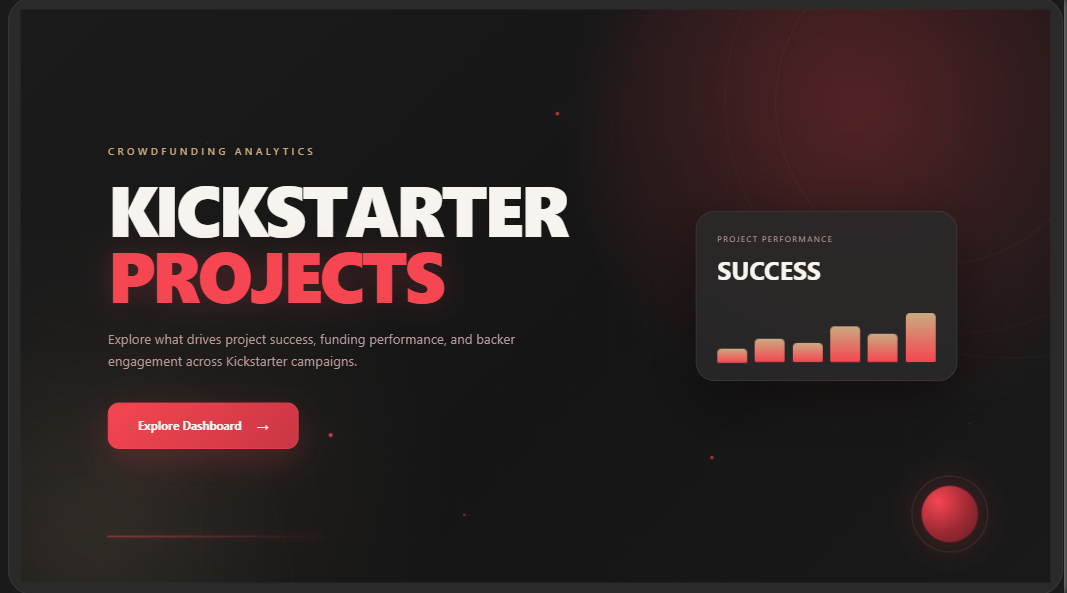

The page's visual inventory and layout, read from the dashboard file:
{"tool":"powerbi","page":{"name":"Over View","canvas":[1280,720],"ordinal":0},"visuals":[{"type":"htmlContent443BE3AD55E043BF878BED274D3A6855","fields":{"content":["Measure.Landing Page HTML"]},"box":[9.6,0,1270.4,719.8],"z":0},{"type":"actionButton","box":[165.9,499.1,130.1,28.6],"z":1000}]}

Visuals, with their boxes in screenshot pixels (x1, y1, x2, y2), scaled from the page's 1280x720 canvas onto the 1067x593 screenshot:
htmlContent443BE3AD55E043BF878BED274D3A6855 - Measure.Landing Page HTML: bbox=(8, 0, 1066, 592)
actionButton: bbox=(138, 411, 247, 435)
